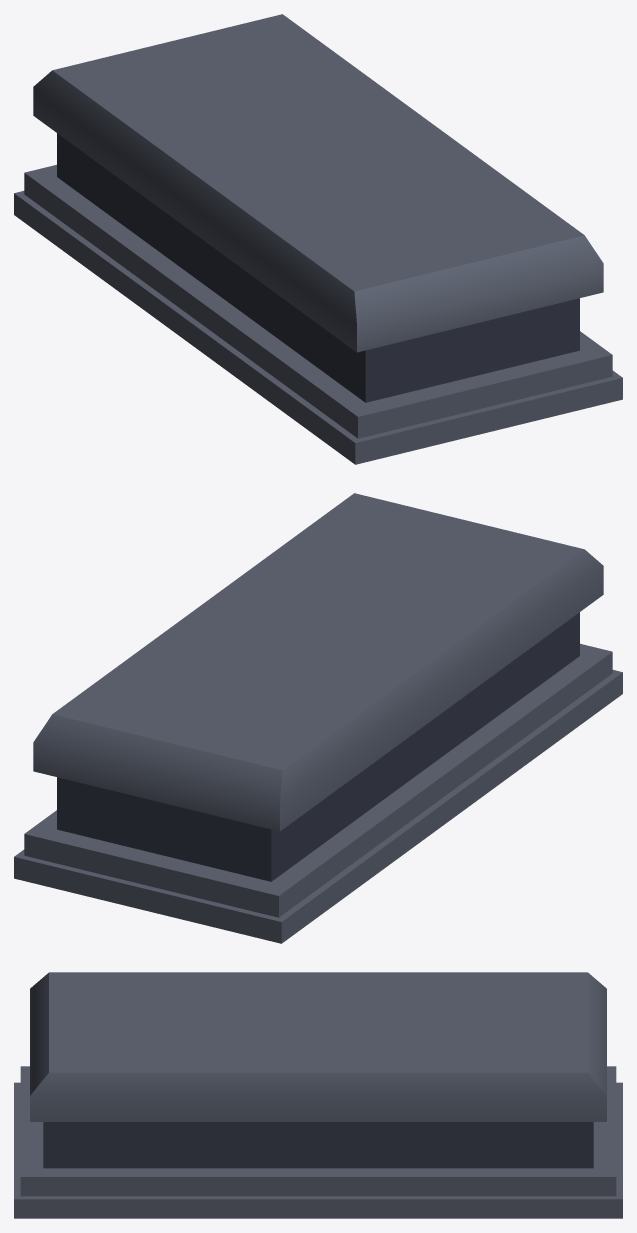
Rendered from Mesh_tomb_2.fbx.
3 renders of one model, top to bottom at view 1: azimuth 30°, elevation 25°; view 2: azimuth 150°, elevation 25°; view 3: azimuth 270°, elevation 25°, orthographic. The views are drawn at different scales.
Parts seen in each view (by area): view 1: tomb_2; view 2: tomb_2; view 3: tomb_2.
Boxes of the visible parts, x1=… form: tomb_2: x1=14, y1=14, x2=622, y2=464; tomb_2: x1=14, y1=493, x2=622, y2=943; tomb_2: x1=14, y1=972, x2=622, y2=1218.
Bounding box in the file's own units: 112 × 62.05 × 249.
1 material, 1 textured.
